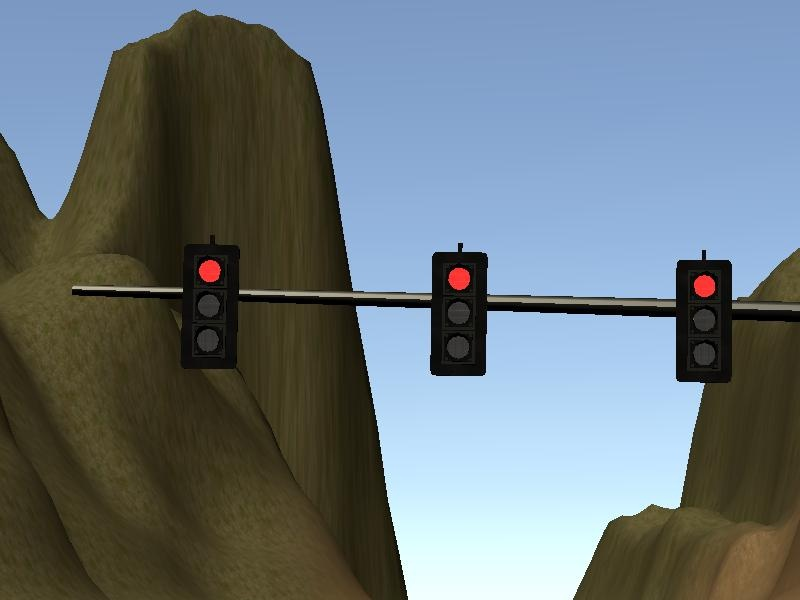red: (428, 252, 491, 380), (180, 242, 243, 370), (672, 258, 735, 386)
